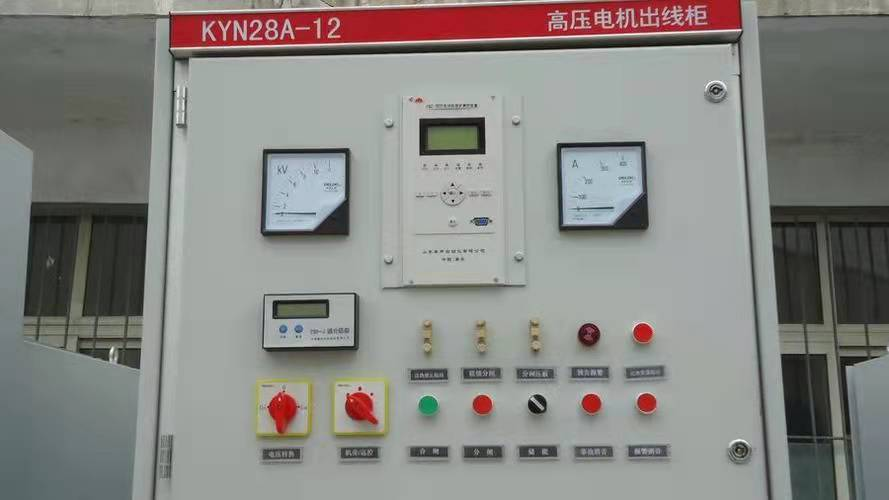pointer: (559, 144, 645, 229), (265, 151, 346, 229)
